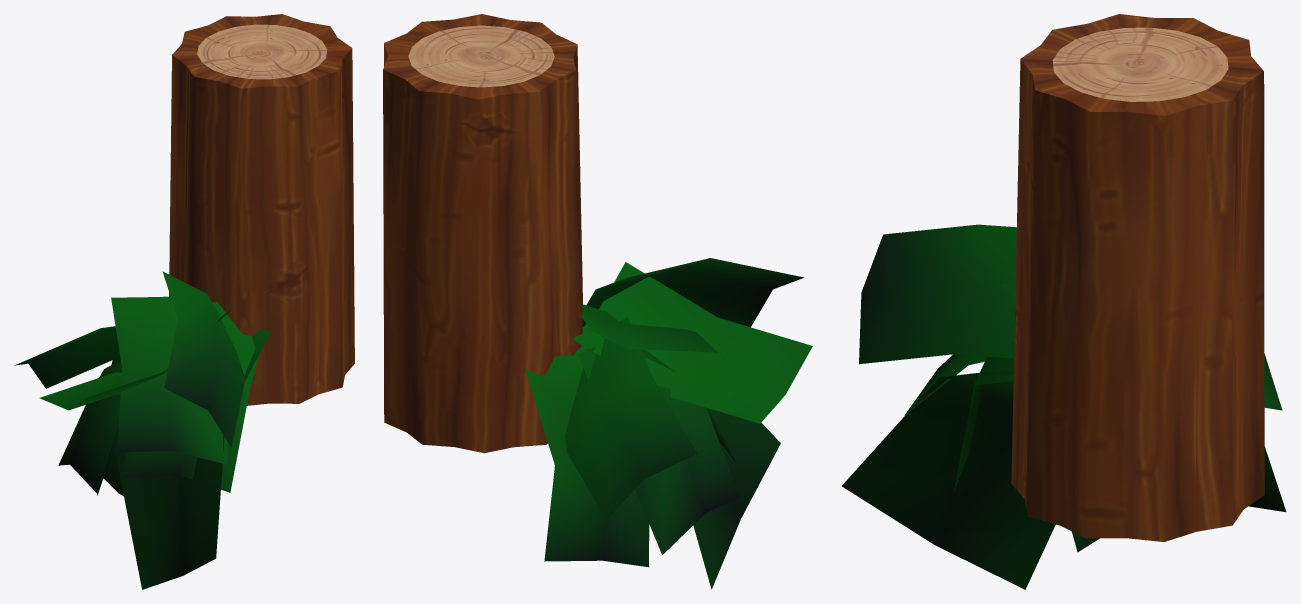
Rendered from obj_harvests_trees_pine02_p05.fbx.
3 views of the same model, side by side, from view 1: azimuth 30°, elevation 25°; view 2: azimuth 150°, elevation 25°; view 3: azimuth 270°, elevation 25° (orthographic). The views are drawn at different scales.
Parts seen in each view (by area): view 1: chunk05; view 2: chunk05; view 3: chunk05.
Part boxes in pixels (bbox=[...]): chunk05: bbox=[14, 14, 354, 589]; chunk05: bbox=[383, 14, 812, 589]; chunk05: bbox=[842, 14, 1286, 589].
Size of the model in its own units: 8.35 by 11.89 by 7.58.
